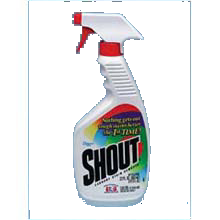grozi_86: (0, 0, 219, 219)
